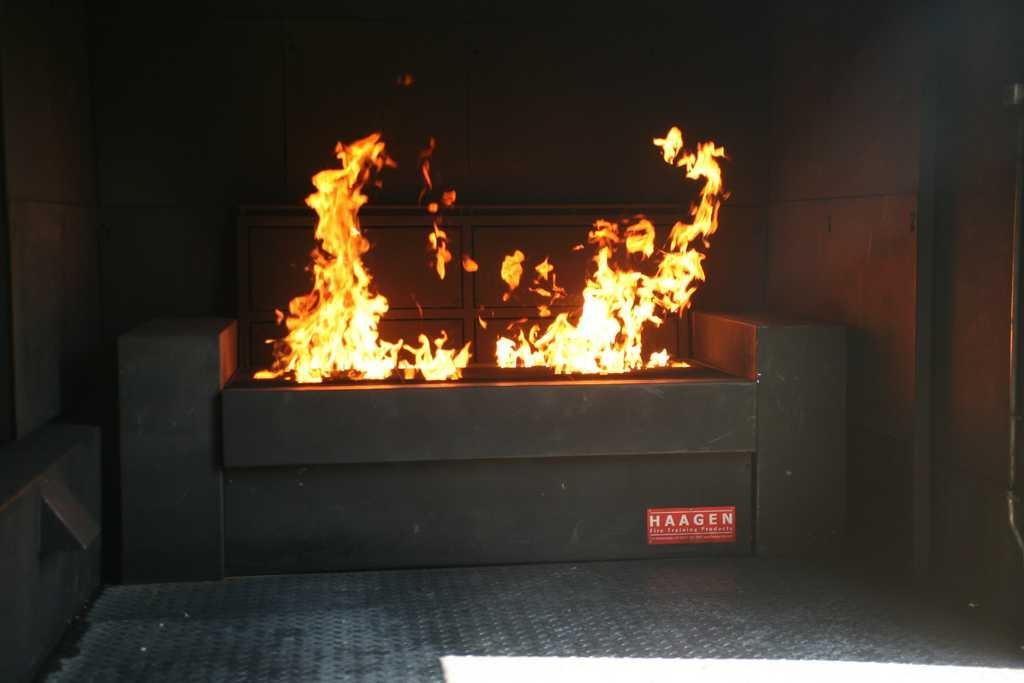fire: (282, 292, 388, 378), (562, 280, 650, 372), (320, 163, 363, 288)
